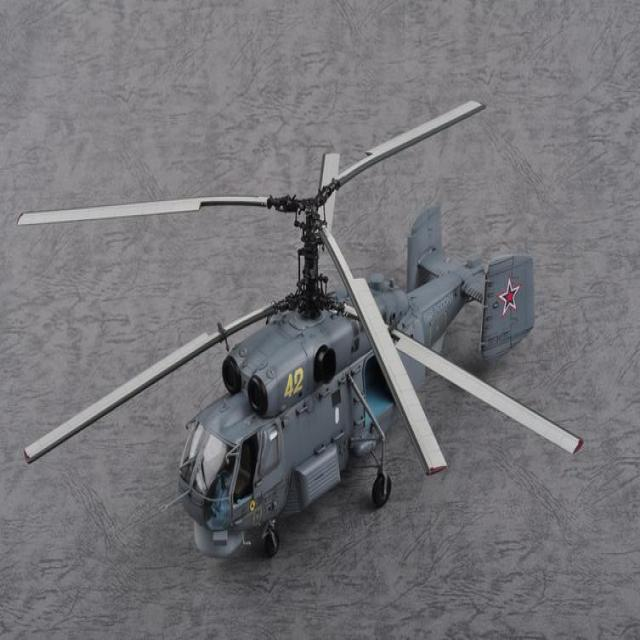MIL_HELO: (12, 96, 588, 572)
